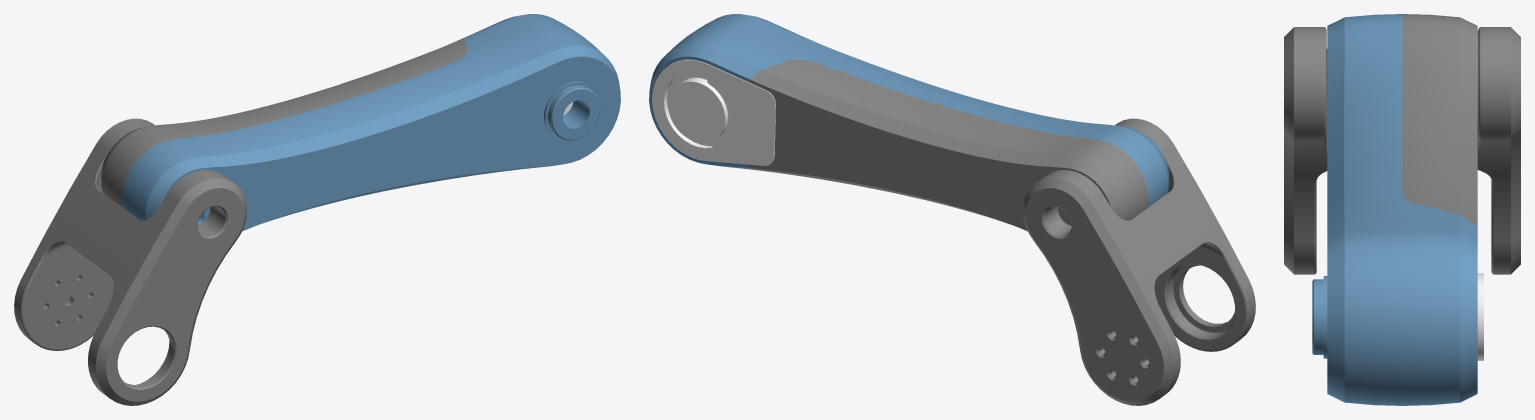
Rendered from fore_arm.dae.
3 renders of one model, left to right at view 1: azimuth 30°, elevation 25°; view 2: azimuth 150°, elevation 25°; view 3: azimuth 270°, elevation 25°, orthographic. The views are drawn at different scales.
Parts seen in each view (by area): view 1: fore_arm; view 2: fore_arm; view 3: fore_arm.
Part boxes in pixels (x1,y1,x2,y2): fore_arm: (14,14,620,405); fore_arm: (649,14,1255,405); fore_arm: (1284,14,1520,405).
Bounding box in the file's own units: 0.3343 × 0.0946 × 0.1395.
